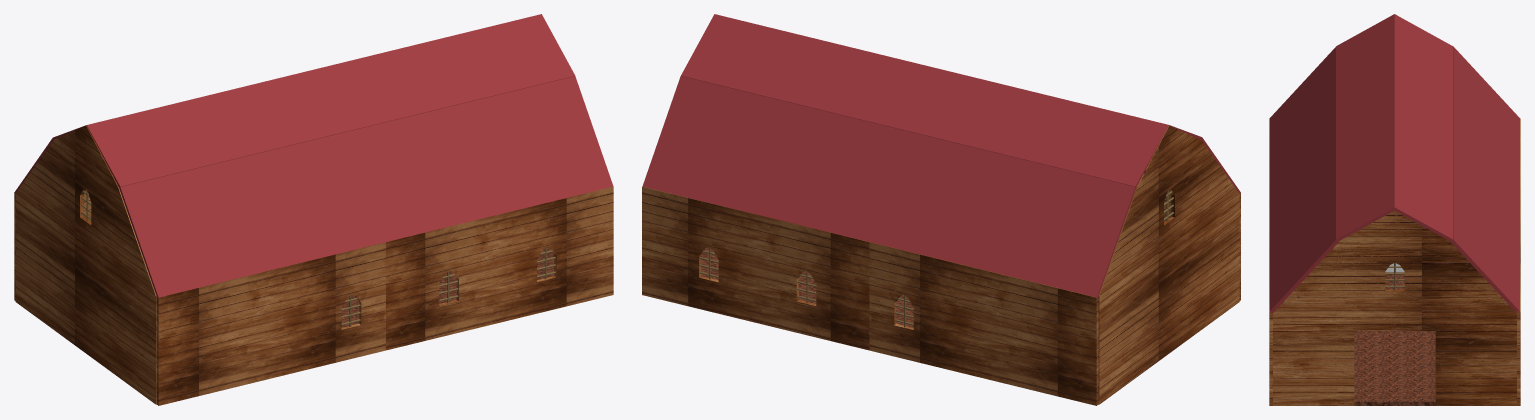
File: Celeiro.fbx
3 renders of one model, left to right at view 1: azimuth 30°, elevation 25°; view 2: azimuth 150°, elevation 25°; view 3: azimuth 270°, elevation 25°, orthographic. The views are drawn at different scales.
Parts seen in each view (by area): view 1: Telhado_Celeiro.002, Parede_Celeiro, Telhado_Celeiro.001, Parede_Celeiro.005, Cube; view 2: Telhado_Celeiro, Parede_Celeiro.006, Telhado_Celeiro.001, Parede_Celeiro.005, Cube; view 3: Parede_Celeiro.001, Telhado_Celeiro.001, Telhado_Celeiro.002, Telhado_Celeiro, Cube, Parede_Celeiro.006, Parede_Celeiro.
Part boxes in pixels (left/top/right/bottom): Telhado_Celeiro.002: left=119, top=76, right=613, bottom=298; Parede_Celeiro: left=156, top=186, right=613, bottom=405; Telhado_Celeiro.001: left=53, top=14, right=575, bottom=187; Parede_Celeiro.005: left=15, top=125, right=156, bottom=404; Cube: left=341, top=247, right=554, bottom=327; Telhado_Celeiro: left=642, top=76, right=1135, bottom=298; Parede_Celeiro.006: left=642, top=186, right=1098, bottom=405; Telhado_Celeiro.001: left=681, top=14, right=1202, bottom=189; Parede_Celeiro.005: left=1098, top=125, right=1239, bottom=404; Cube: left=701, top=247, right=913, bottom=327; Parede_Celeiro.001: left=1273, top=210, right=1516, bottom=405; Telhado_Celeiro.001: left=1336, top=14, right=1452, bottom=242; Telhado_Celeiro.002: left=1269, top=47, right=1338, bottom=313; Telhado_Celeiro: left=1451, top=46, right=1519, bottom=312; Cube: left=1354, top=272, right=1435, bottom=405; Parede_Celeiro.006: left=1517, top=118, right=1520, bottom=405; Parede_Celeiro: left=1269, top=118, right=1272, bottom=405.
Size of the model in its own units: 1760 by 843 by 966.
